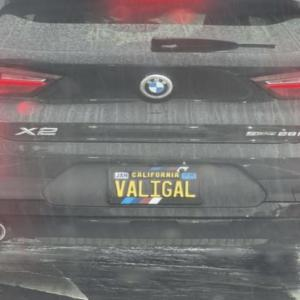Plate: (106, 166, 204, 205)
